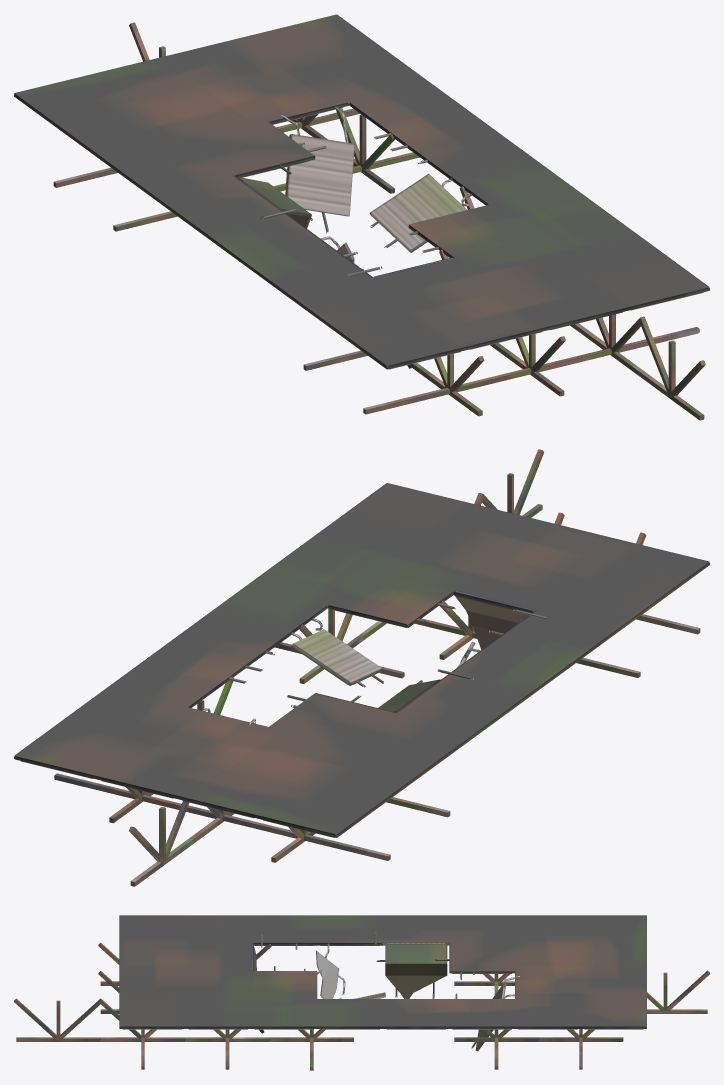
File: Ceiling.obj
3 renders of one model, top to bottom at view 1: azimuth 30°, elevation 25°; view 2: azimuth 150°, elevation 25°; view 3: azimuth 270°, elevation 25°, orthographic. The views are drawn at different scales.
Visible parts, largest first — view 1: cuboid, support, cylinder, cuboid_selection; view 2: cuboid, support, cylinder, cuboid_selection; view 3: cuboid, support, cuboid_selection, cylinder.
Part boxes in pixels (bbox=[...]): cuboid: bbox=[14, 14, 709, 369]; support: bbox=[53, 22, 705, 420]; cylinder: bbox=[260, 133, 472, 276]; cuboid_selection: bbox=[237, 177, 411, 368]; cuboid: bbox=[14, 483, 709, 837]; support: bbox=[54, 449, 700, 886]; cylinder: bbox=[228, 603, 548, 707]; cuboid_selection: bbox=[378, 595, 528, 712]; cuboid: bbox=[119, 915, 646, 1051]; support: bbox=[14, 943, 709, 1070]; cuboid_selection: bbox=[253, 943, 447, 1033]; cylinder: bbox=[261, 932, 474, 998].
Bounding box in the file's own units: 19.59 × 6.06 × 49.46.
2 materials, 2 textured.
